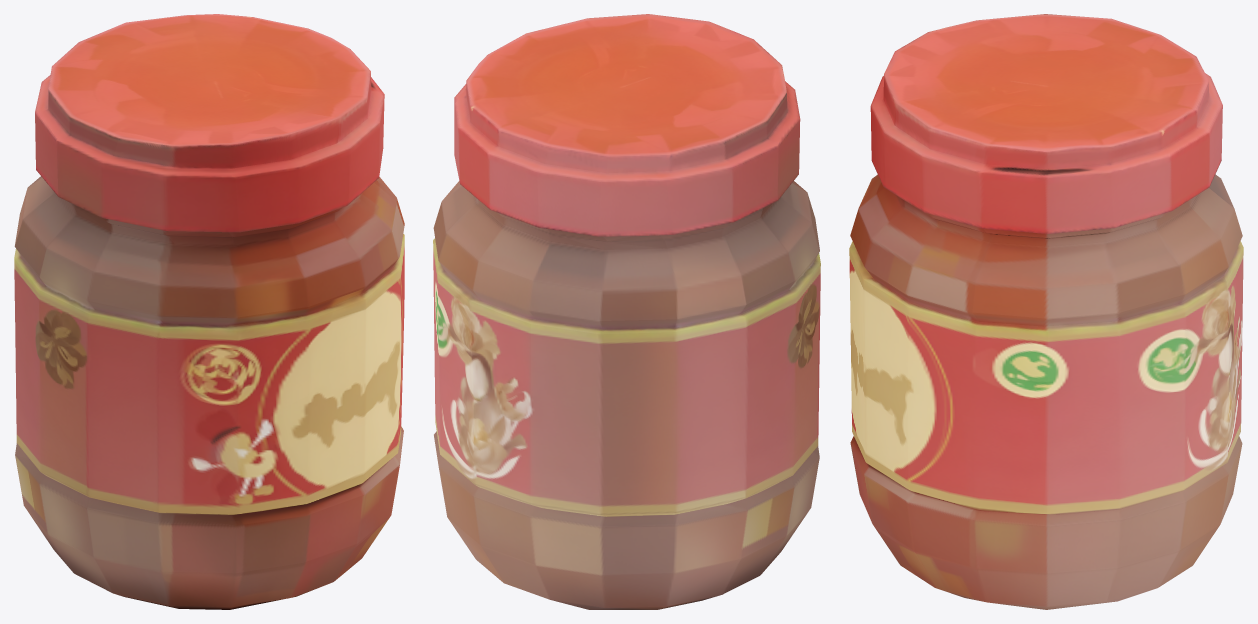
Rendered from base_basic_shaded.fbx.
3 renders of one model, left to right at view 1: azimuth 30°, elevation 25°; view 2: azimuth 150°, elevation 25°; view 3: azimuth 270°, elevation 25°, orthographic.
Parts seen in each view (by area): view 1: model; view 2: model; view 3: model.
Part boxes in pixels (box(x1,y1,x2,y2)): model: box(14, 14, 404, 609); model: box(433, 14, 820, 609); model: box(849, 14, 1243, 609).
Bounding box in the file's own units: 136 × 184 × 136.
